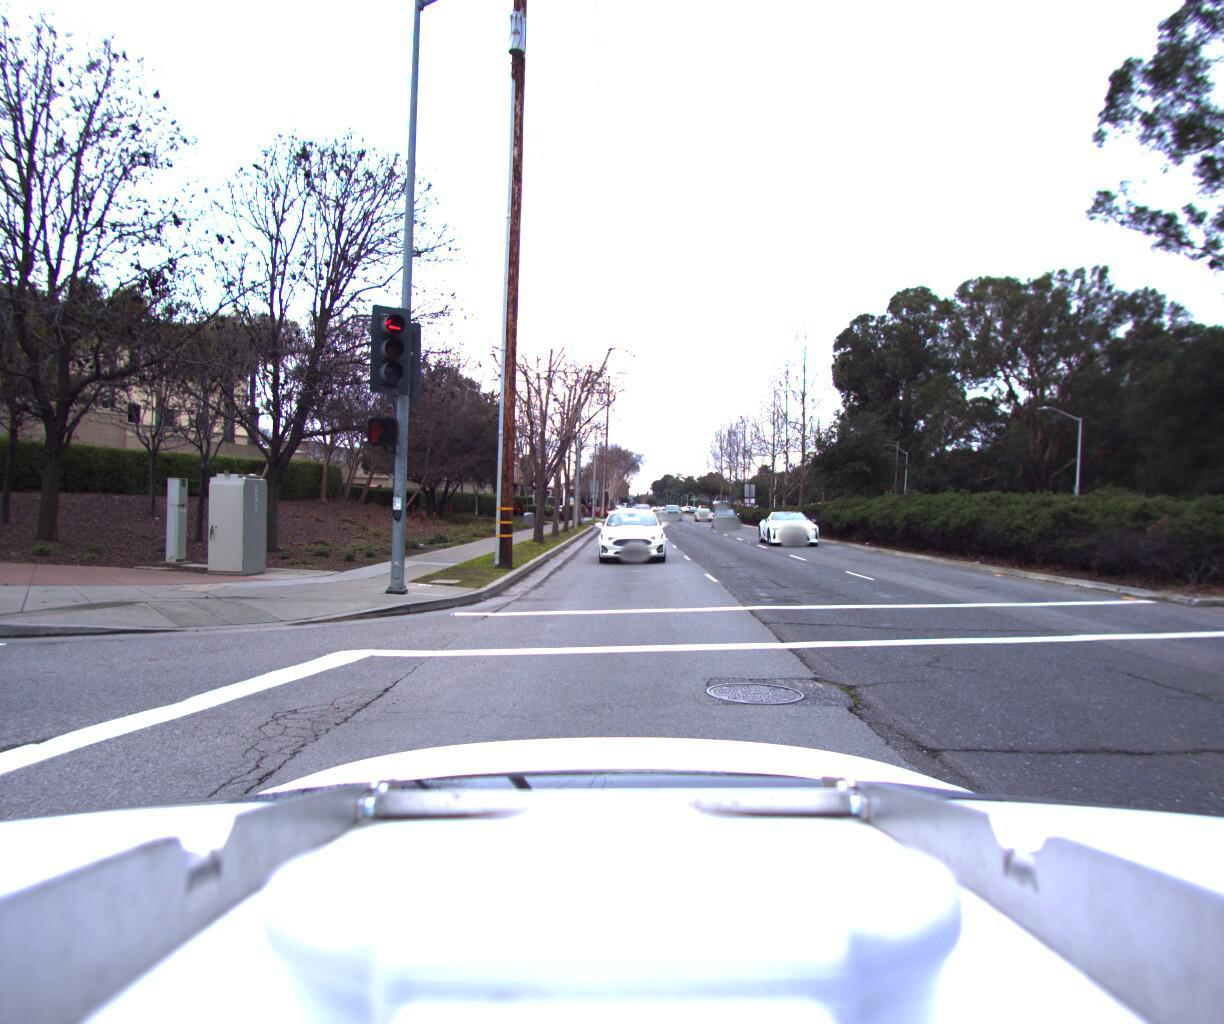car: (595, 504, 670, 567), (761, 507, 834, 549), (710, 504, 745, 526), (662, 504, 683, 518)
